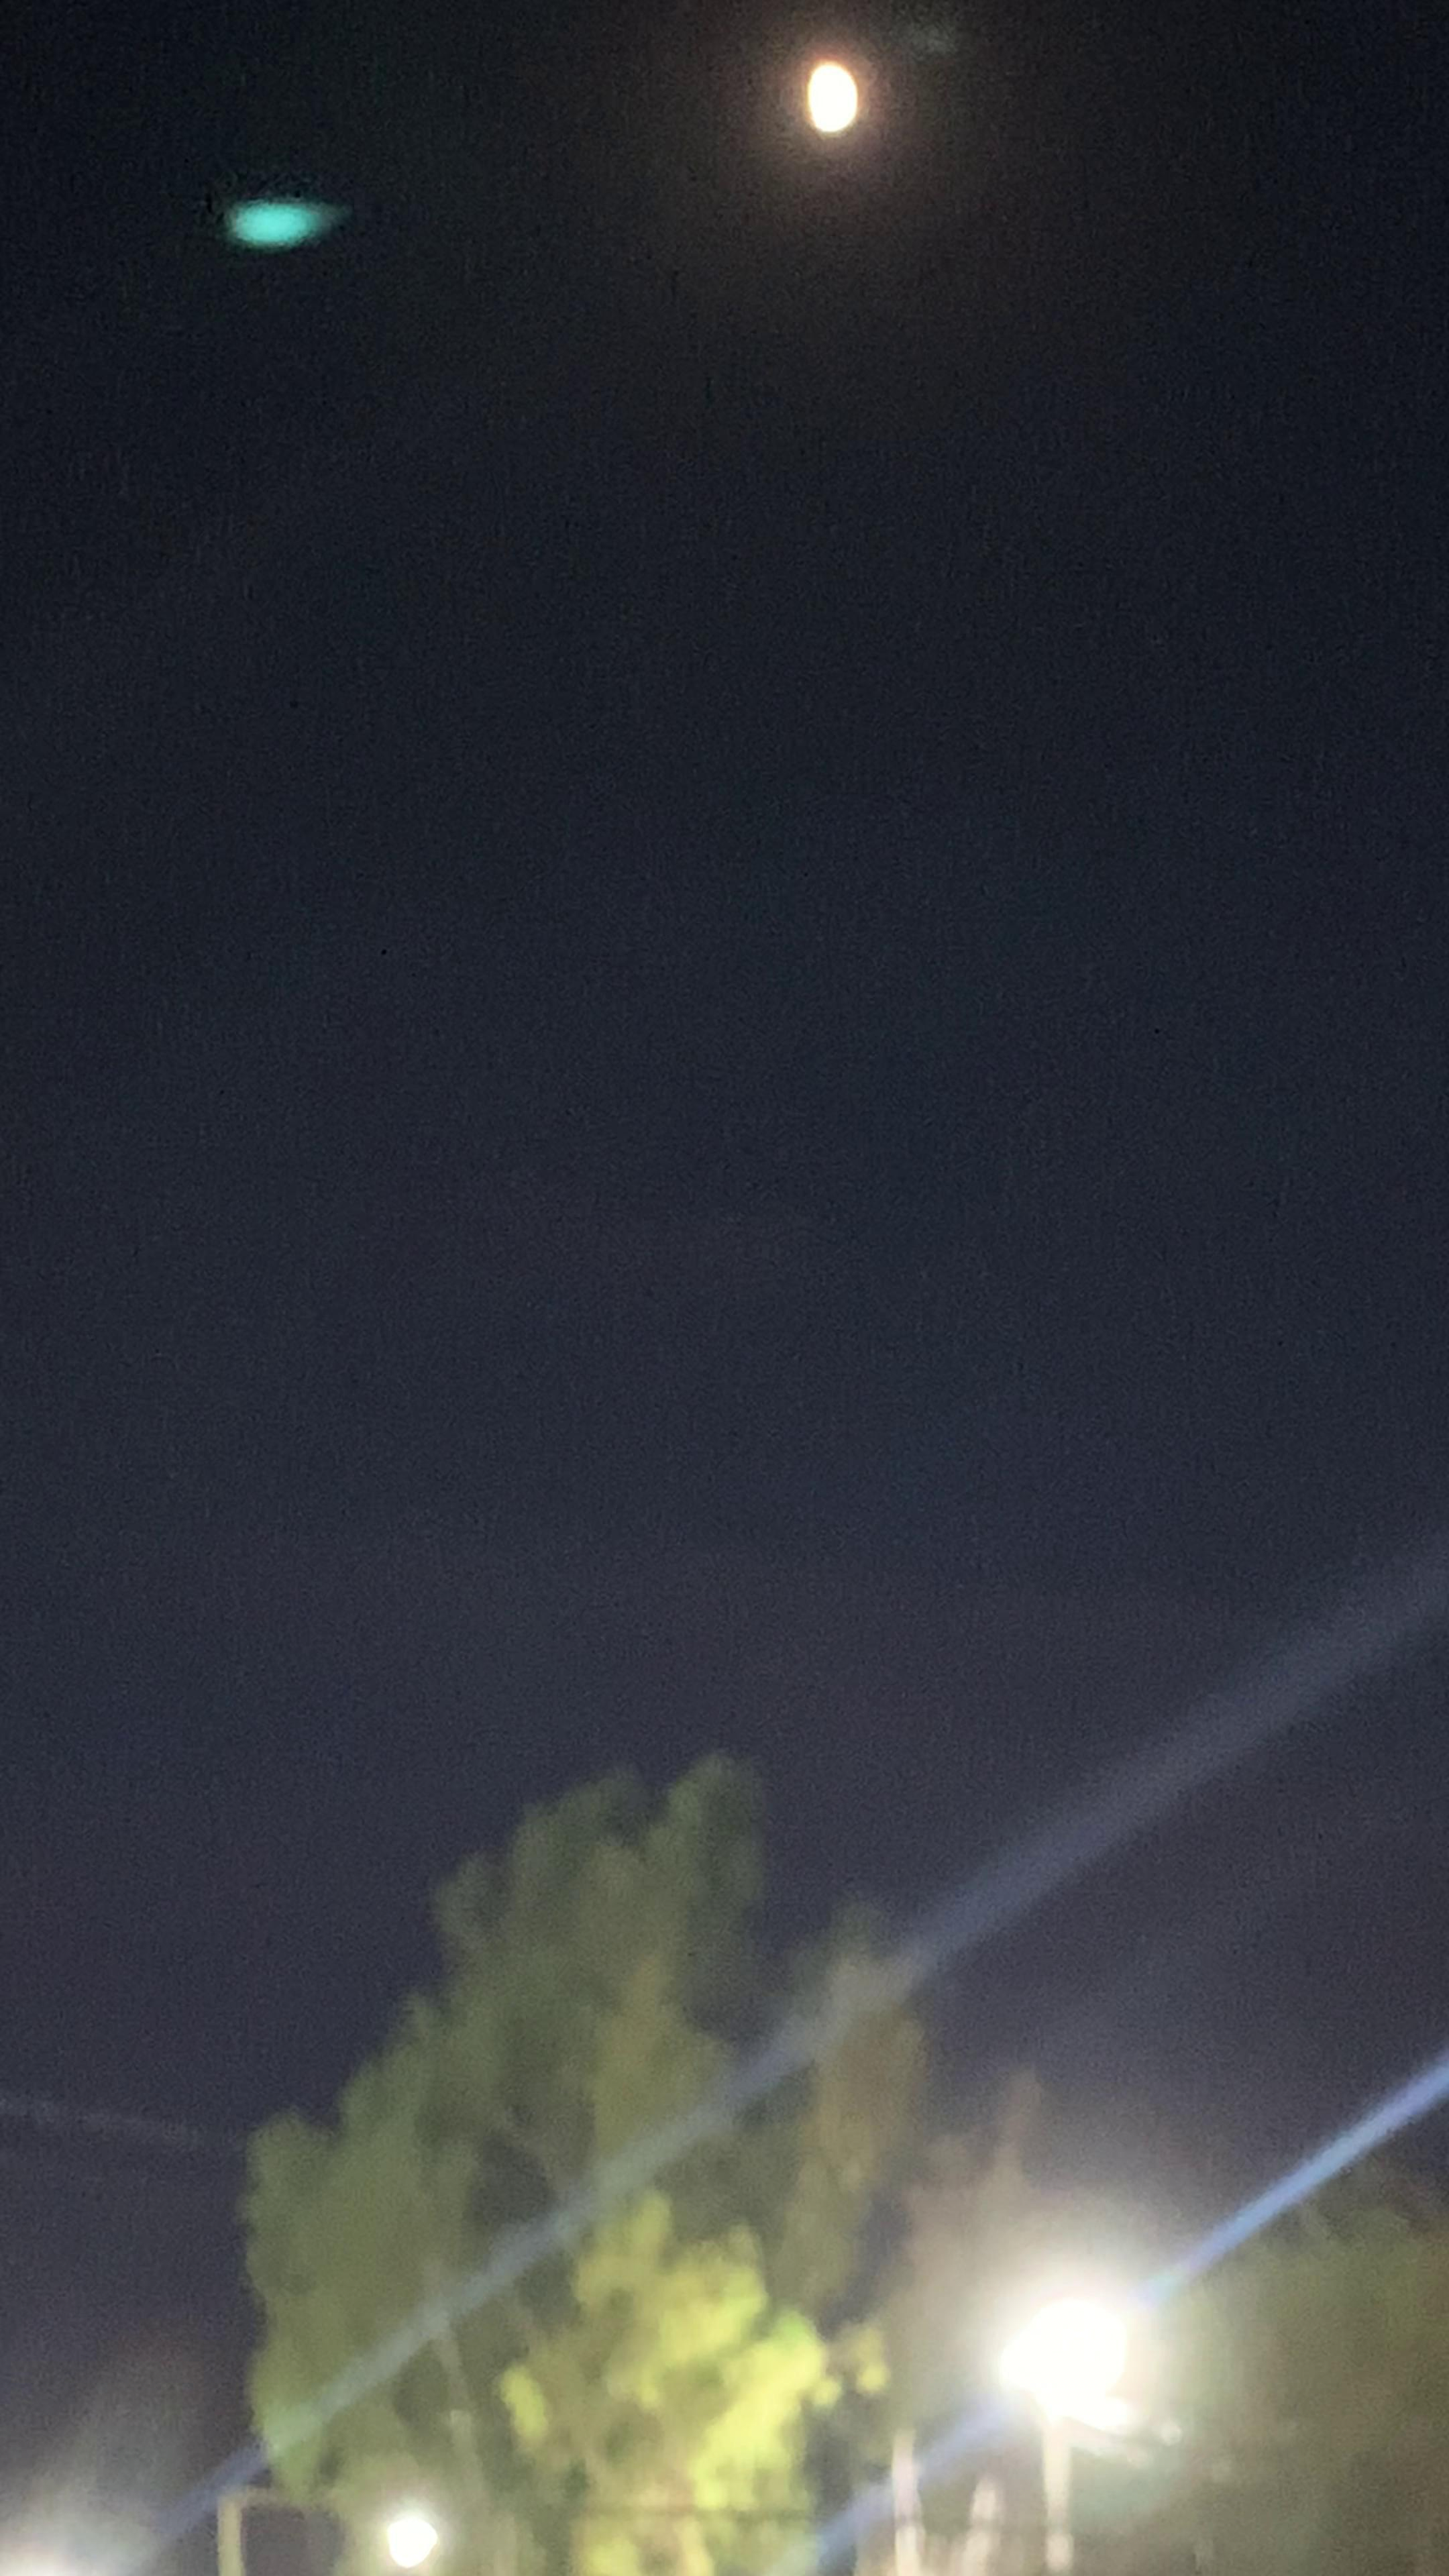moon: (770, 39, 902, 163)
